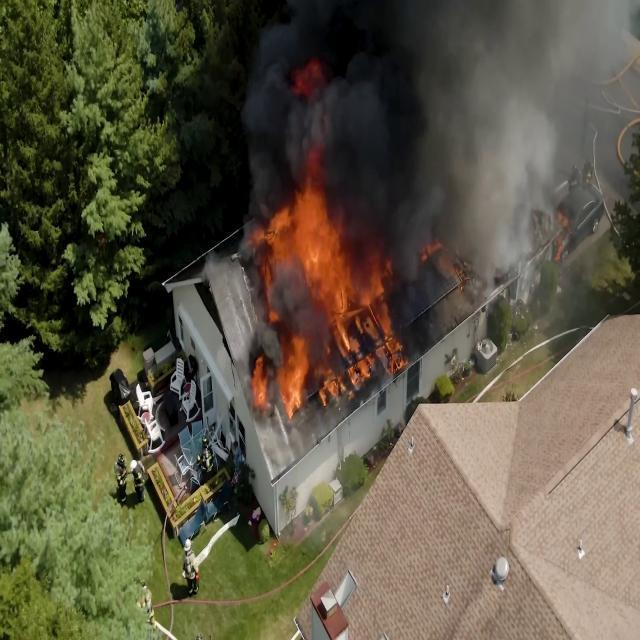Fire: (253, 175, 351, 313), (246, 328, 314, 412)
Smoke: (413, 0, 529, 248), (339, 8, 482, 179)
